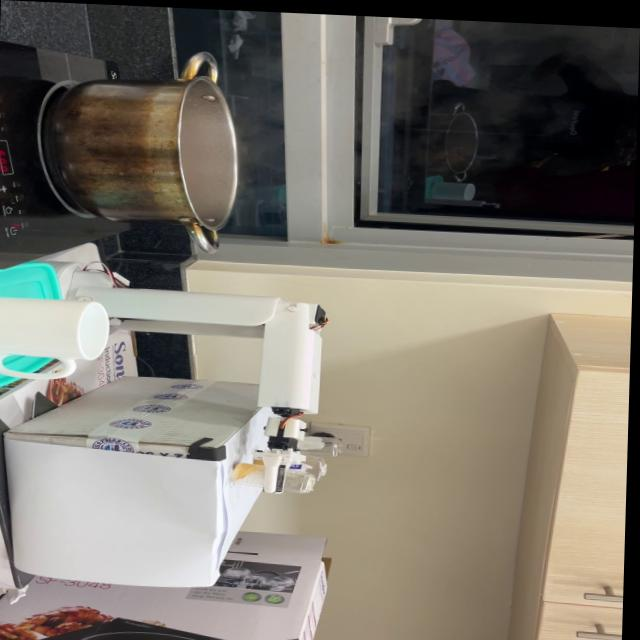cooking_pot: (47, 44, 246, 253)
garlic_powder: (226, 457, 261, 480)
